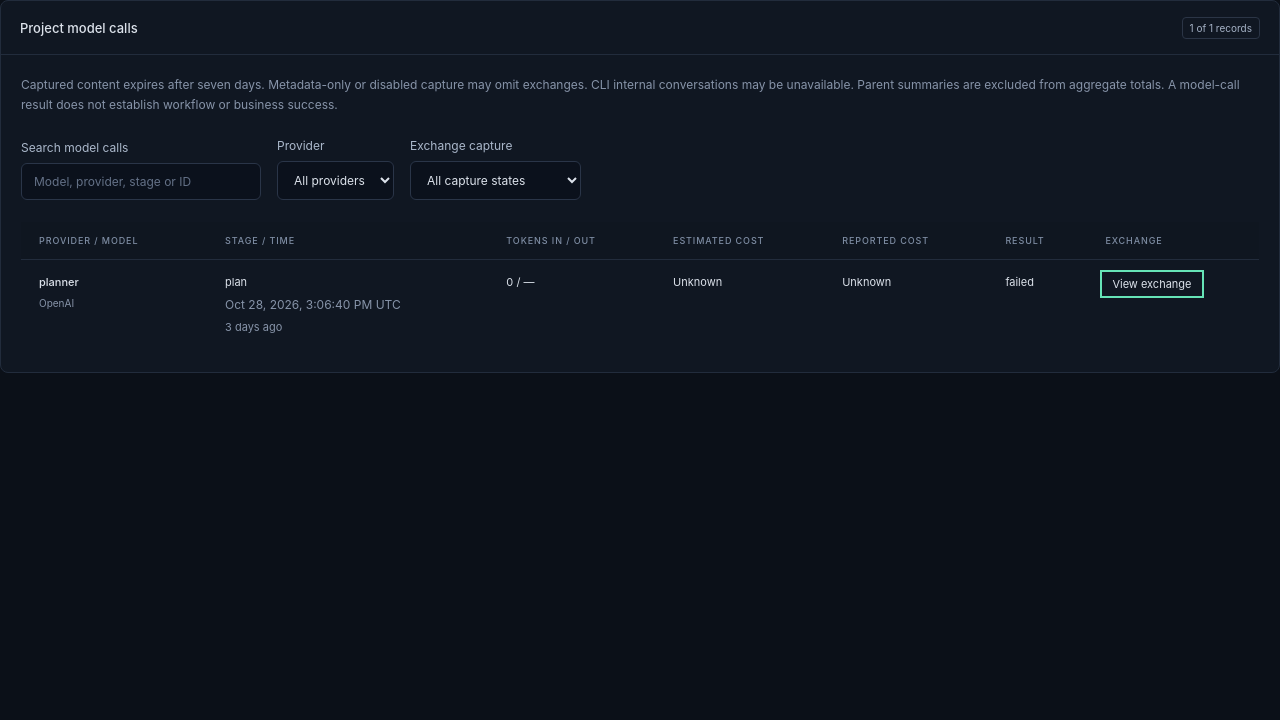
loads scoped exchanges, renders nested JSON and messages safely, restores focus on Escape
This screenshot has width=1280, height=720.
Step 1. Click the button with aria-label "View exchange call-1" → click(1152, 284), box [1105,275,1198,293]
(page scrolled)
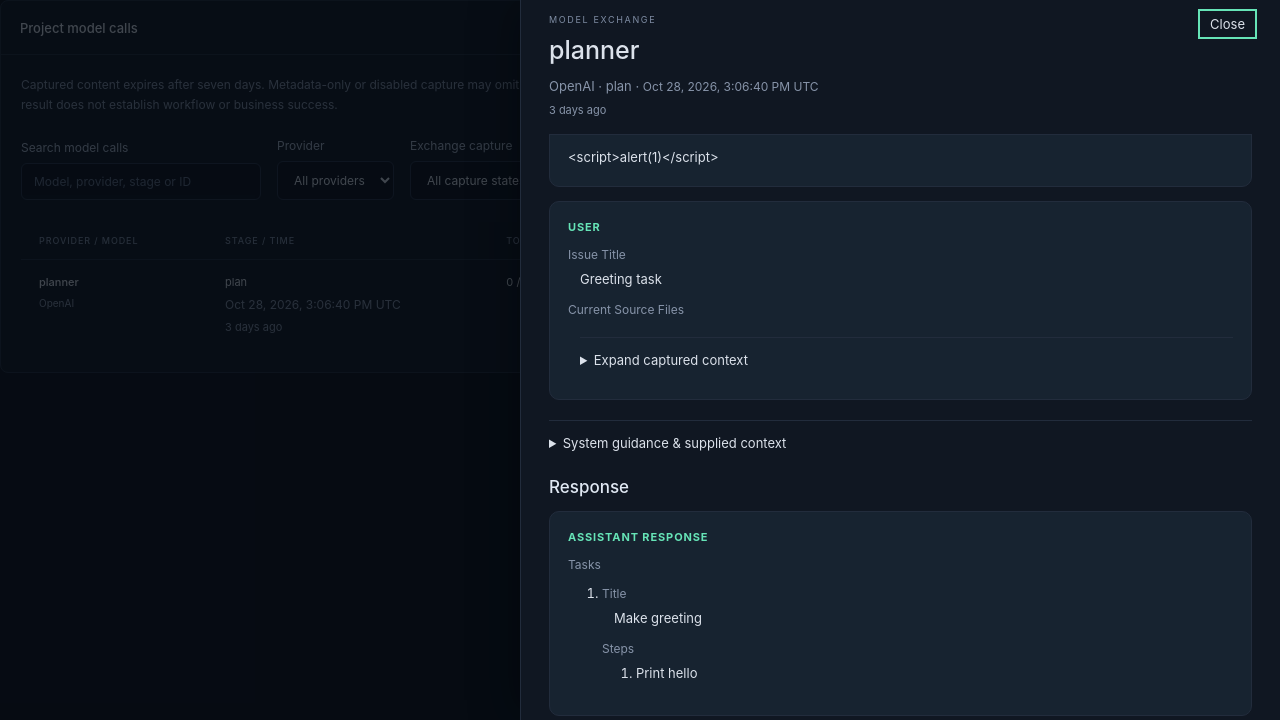
expect the text "Source context text" is not shown: met
expect the text "Make greeting" is shown: met, box [614,610,702,626]
expect the text "<script>alert(1)</script>" is shown: met, box [568,149,719,165]
Step 2. Click the heading "Expand captured context" → click(671, 360), box [594,352,748,368]
(page scrolled)
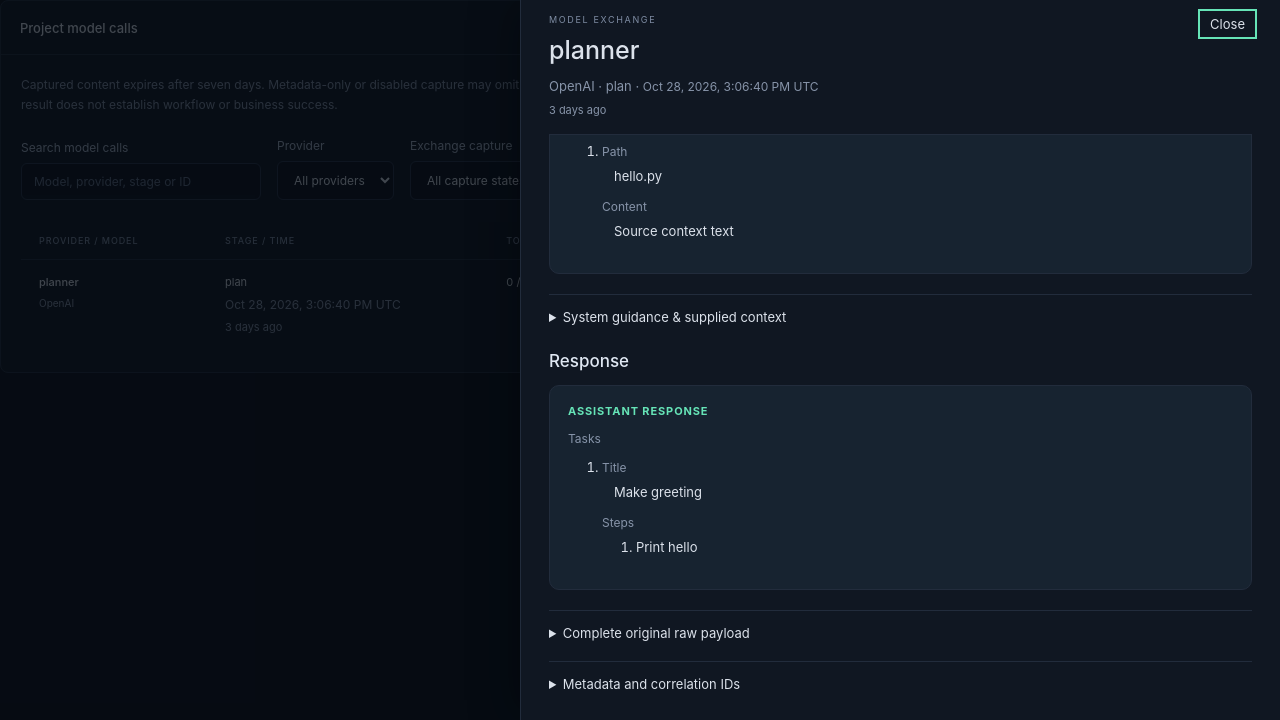
expect the text "Source context text" is shown: met, box [614,223,734,239]
Step 3. Click the heading "Complete original raw payload" → click(656, 633), box [563,625,750,641]
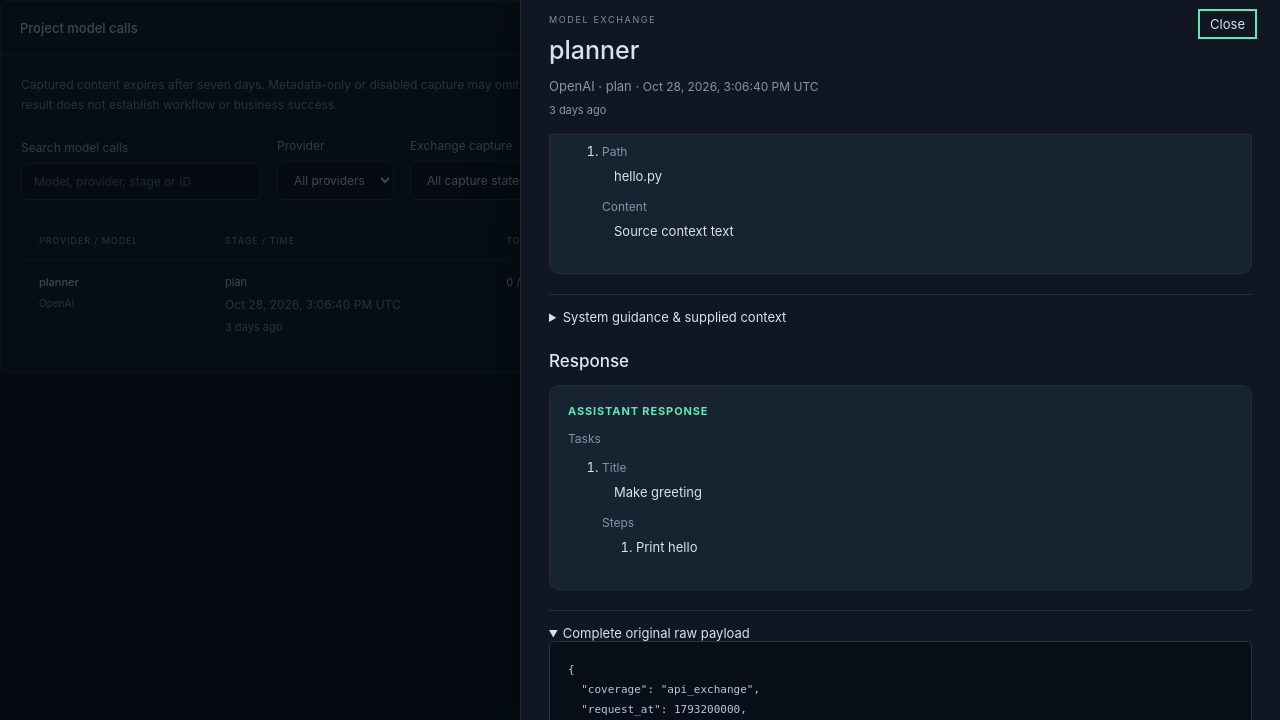
Step 4. Press Escape in the dialog, box [520,0,1279,719]
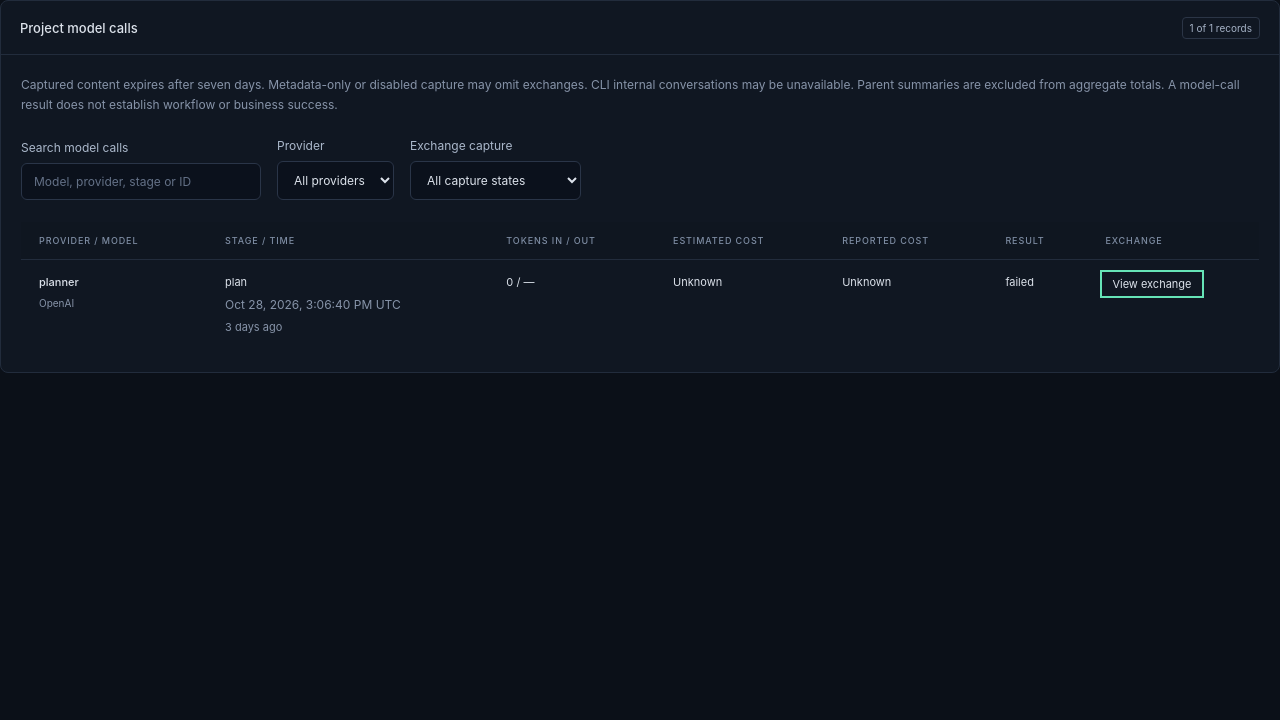
expect the dialog is gone: met
